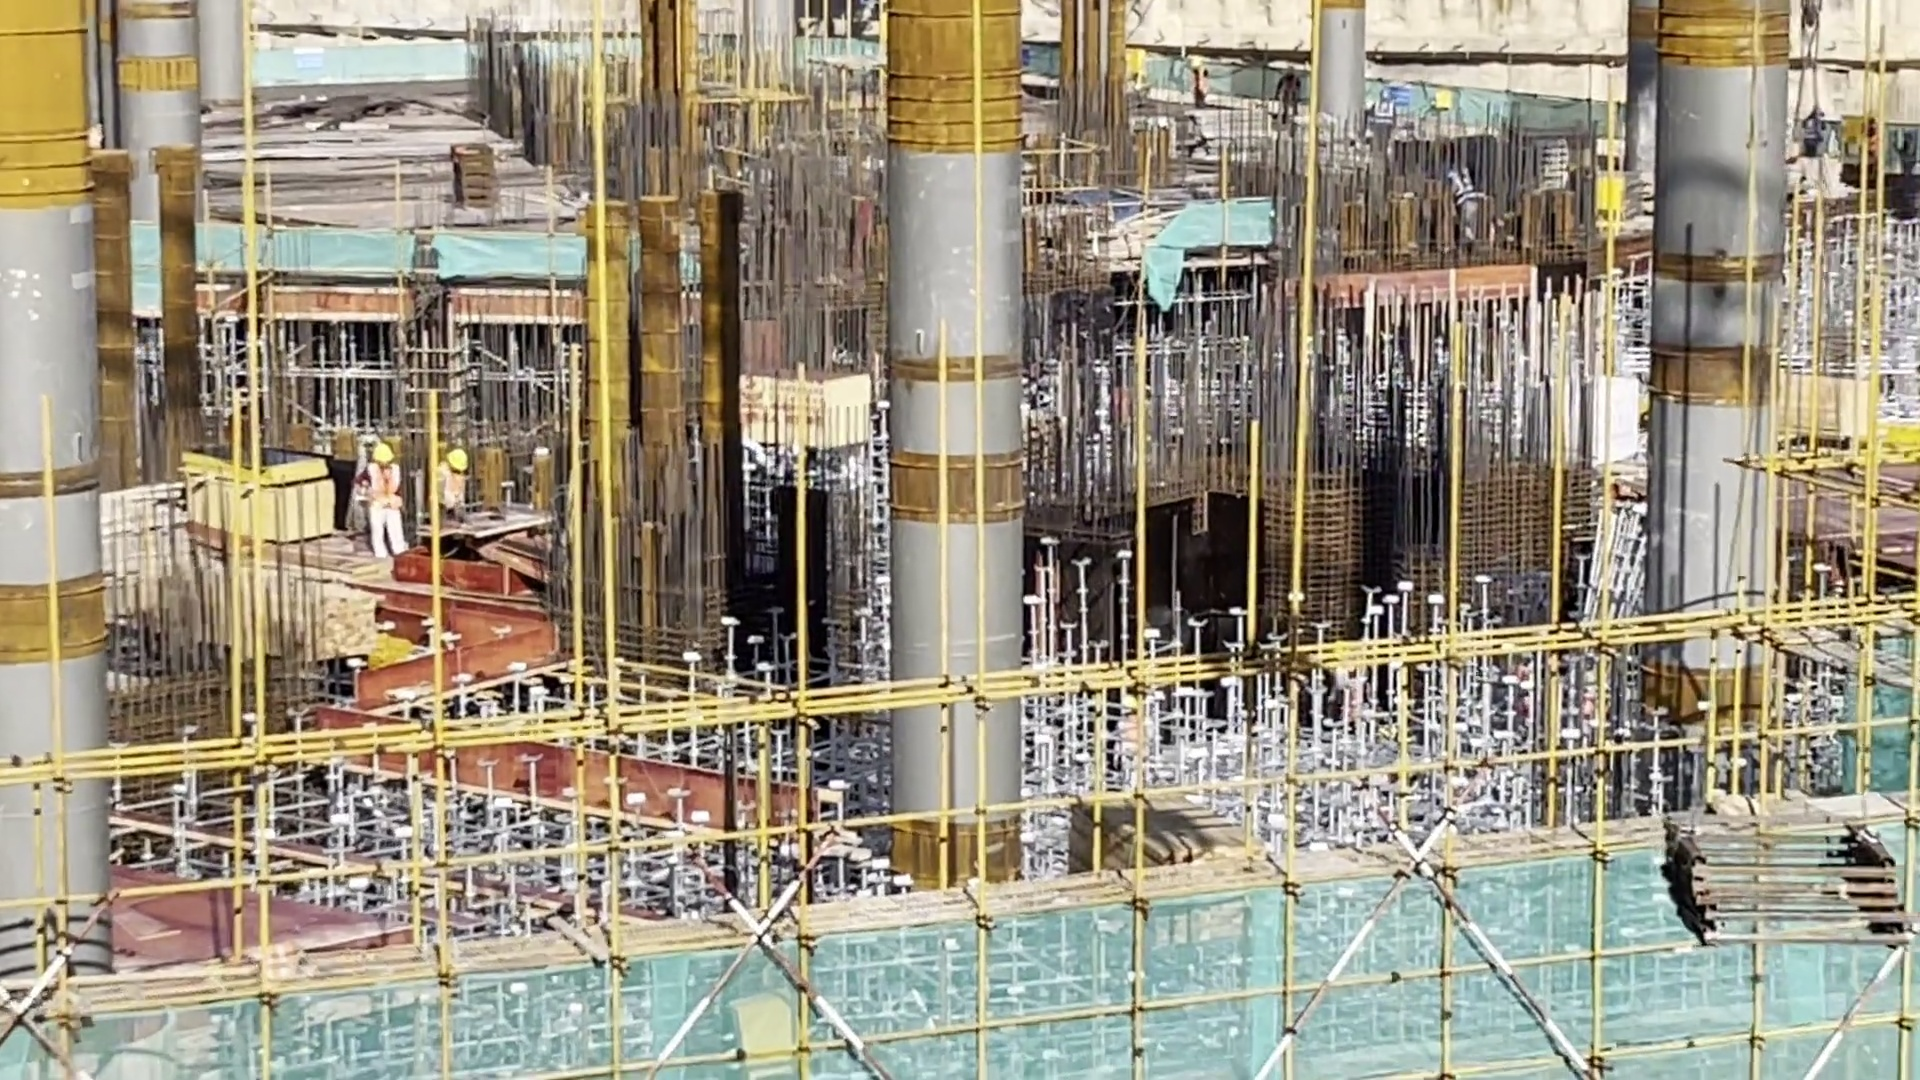helmet: (370, 440, 397, 468), (443, 451, 471, 477)
person: (352, 437, 409, 562), (430, 444, 470, 552), (1268, 62, 1313, 123), (1184, 48, 1211, 111)
vest: (368, 463, 411, 519), (440, 465, 469, 520)
